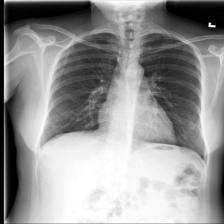normal: (35, 26, 209, 166)
